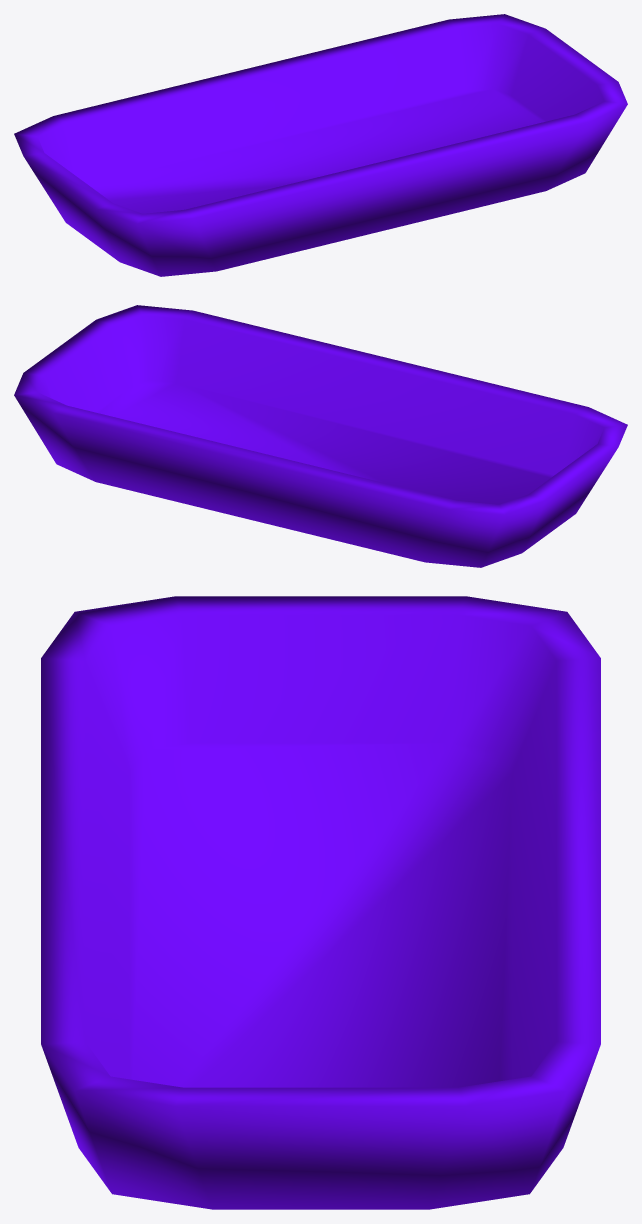
Rendered from hospital_staff_medicalTray_1_meshCollider.fbx.
The picture shows the model from 3 angles, top to bottom: view 1: azimuth 30°, elevation 25°; view 2: azimuth 150°, elevation 25°; view 3: azimuth 270°, elevation 25°; orthographic projection. The views are drawn at different scales.
Parts seen in each view (by area): view 1: hospital_staff_medicalTray_1_meshCollider; view 2: hospital_staff_medicalTray_1_meshCollider; view 3: hospital_staff_medicalTray_1_meshCollider.
Boxes of the visible parts, left/top/right/bottom form: hospital_staff_medicalTray_1_meshCollider: left=14, top=14, right=627, bottom=276; hospital_staff_medicalTray_1_meshCollider: left=14, top=305, right=627, bottom=567; hospital_staff_medicalTray_1_meshCollider: left=41, top=596, right=600, bottom=1209.
Bounding box in the file's own units: 28.11 × 3.49 × 13.04.
